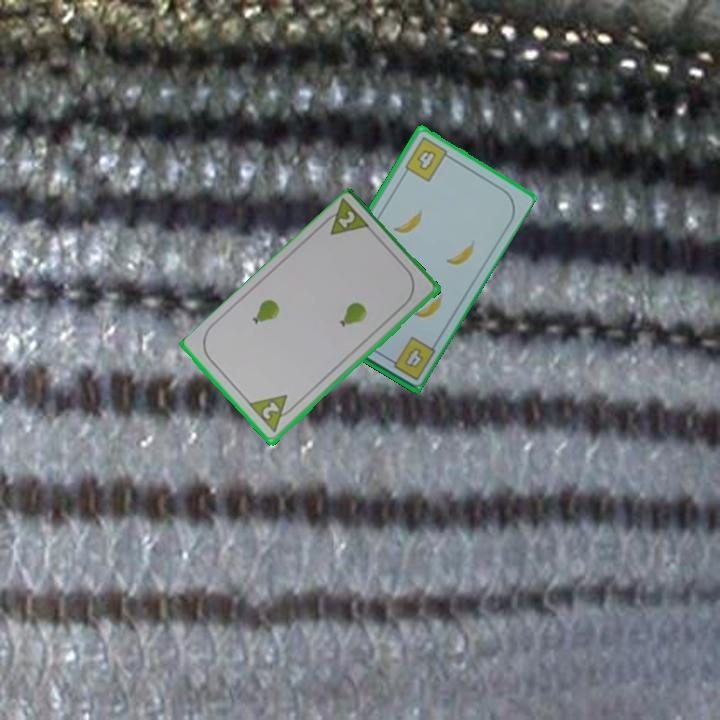2p: (317, 197, 374, 239), (246, 391, 299, 436)
4b: (401, 133, 455, 185), (383, 333, 438, 383)
